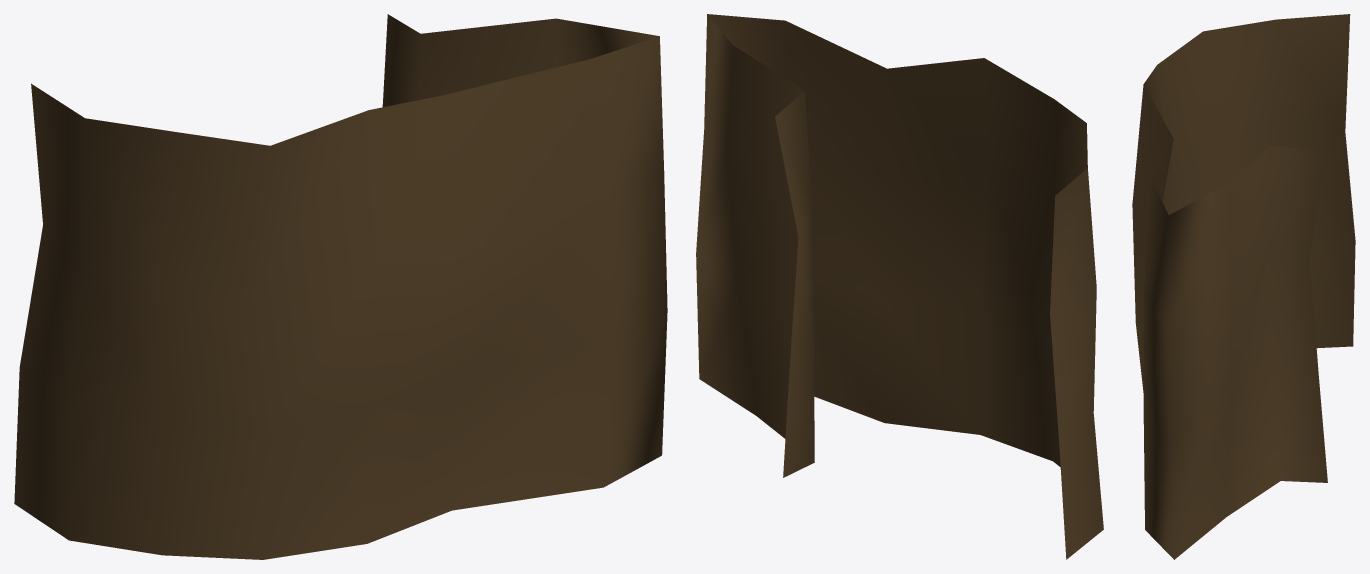
Rendered from SWORDLIGHT20_PS-AREA03_108.fbx.
3 views of the same model, side by side, from view 1: azimuth 30°, elevation 25°; view 2: azimuth 150°, elevation 25°; view 3: azimuth 270°, elevation 25° (orthographic). The views are drawn at different scales.
Visible parts, largest first — view 1: SWORDLIGHT20_PS-AREA03_108; view 2: SWORDLIGHT20_PS-AREA03_108; view 3: SWORDLIGHT20_PS-AREA03_108.
Part boxes in pixels (<box>): SWORDLIGHT20_PS-AREA03_108: <box>14,14,667,559</box>; SWORDLIGHT20_PS-AREA03_108: <box>696,14,1103,559</box>; SWORDLIGHT20_PS-AREA03_108: <box>1132,14,1355,559</box>.
Bounding box in the file's own units: 196039 × 151029 × 86448.
Materials: 3 (3 with a texture image).
